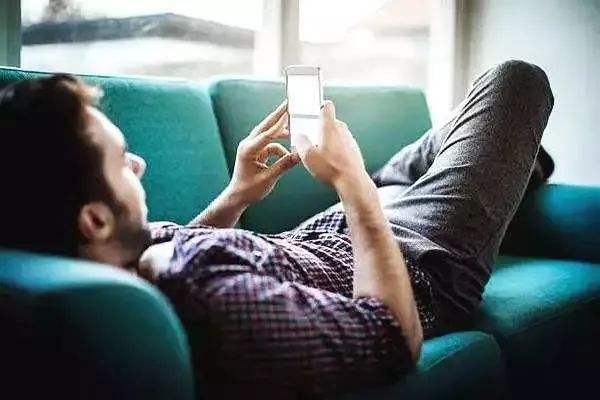reading: (224, 59, 381, 206)
